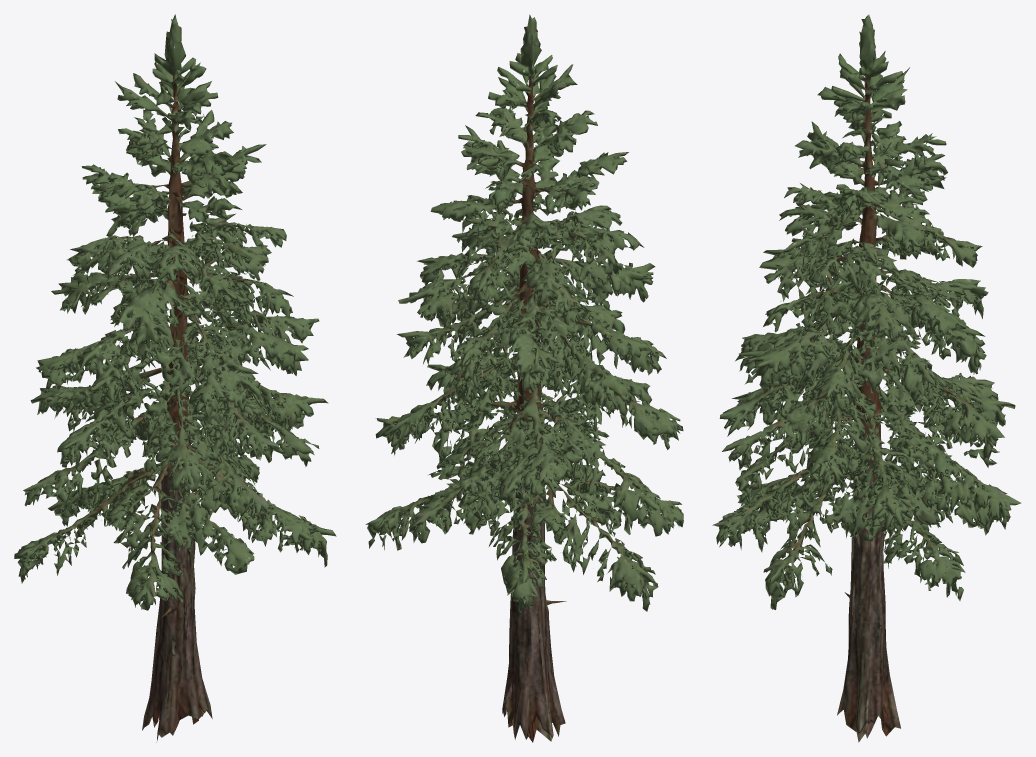
The model's file is cedar_a.0.glb.
3 views of the same model, side by side, from view 1: azimuth 30°, elevation 25°; view 2: azimuth 150°, elevation 25°; view 3: azimuth 270°, elevation 25° (orthographic).
Parts seen in each view (by area): view 1: geometry_0; view 2: geometry_0; view 3: geometry_0.
Part boxes in pixels (x1=…): geometry_0: x1=14, y1=14, x2=336, y2=742; geometry_0: x1=365, y1=14, x2=683, y2=742; geometry_0: x1=712, y1=14, x2=1021, y2=742.
Size of the model in its own units: 0.4044 by 0.984 by 0.3823.
Materials: 1 (1 with a texture image).
